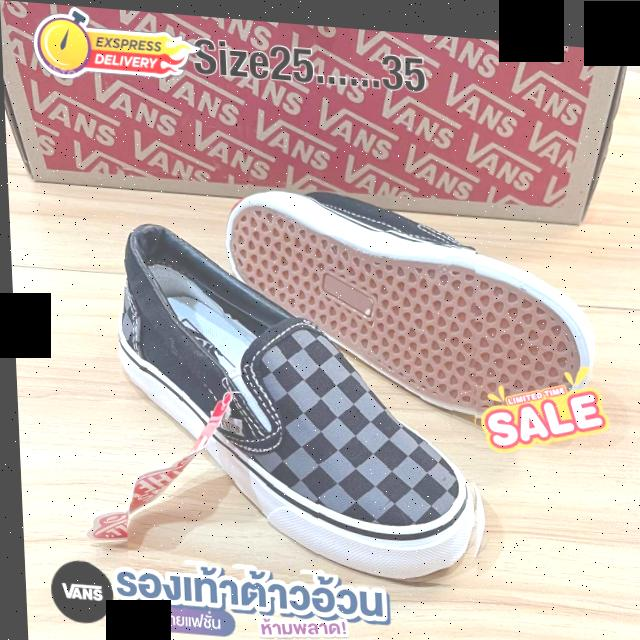shoe: (111, 216, 485, 582)
